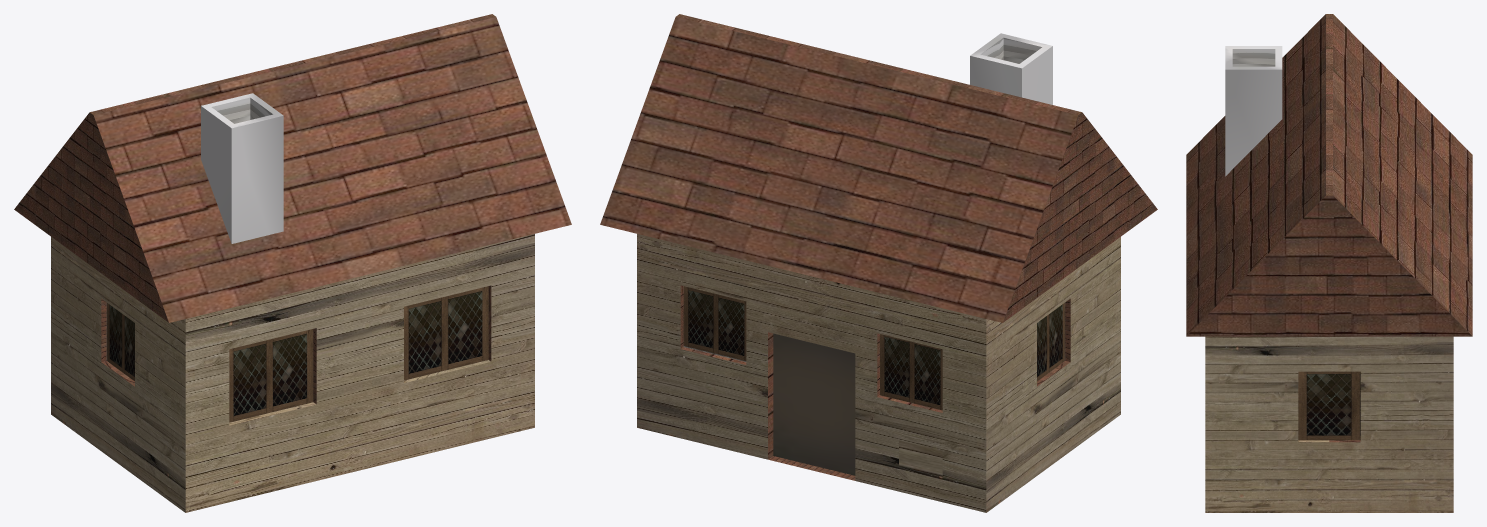
Rendered from simple_house.fbx.
3 views of the same model, side by side, from view 1: azimuth 30°, elevation 25°; view 2: azimuth 150°, elevation 25°; view 3: azimuth 270°, elevation 25° (orthographic). The views are drawn at different scales.
Visible parts, largest first — view 1: House; view 2: House; view 3: House.
Boxes of the visible parts, x1=… form: House: x1=14, y1=14, x2=571, y2=512; House: x1=600, y1=14, x2=1157, y2=512; House: x1=1186, y1=14, x2=1472, y2=512.
Size of the model in its own units: 506 by 435 by 337.
Materials: 3 (3 with a texture image).
